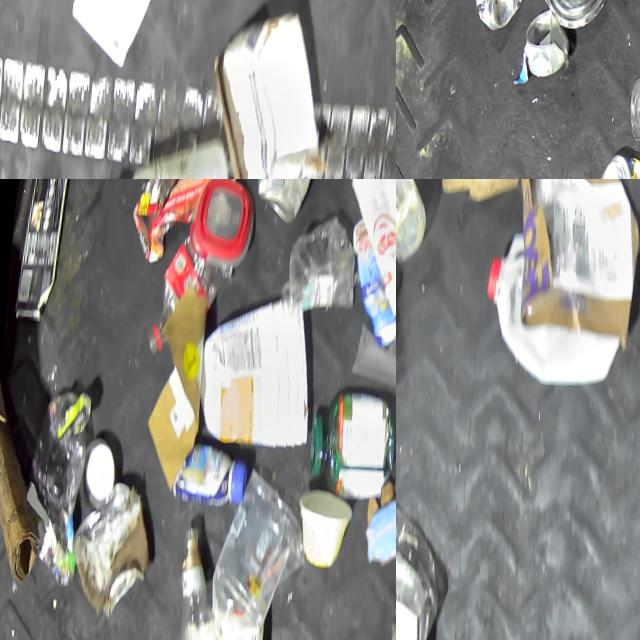can: (64, 473, 156, 622), (520, 1, 572, 75), (78, 431, 118, 512), (534, 0, 615, 31), (624, 38, 640, 160), (468, 0, 527, 32), (593, 146, 640, 179), (222, 617, 267, 640)
milk_jug: (477, 226, 629, 399), (93, 103, 245, 179)
plastic_bottle: (168, 518, 233, 640), (396, 486, 445, 640)
